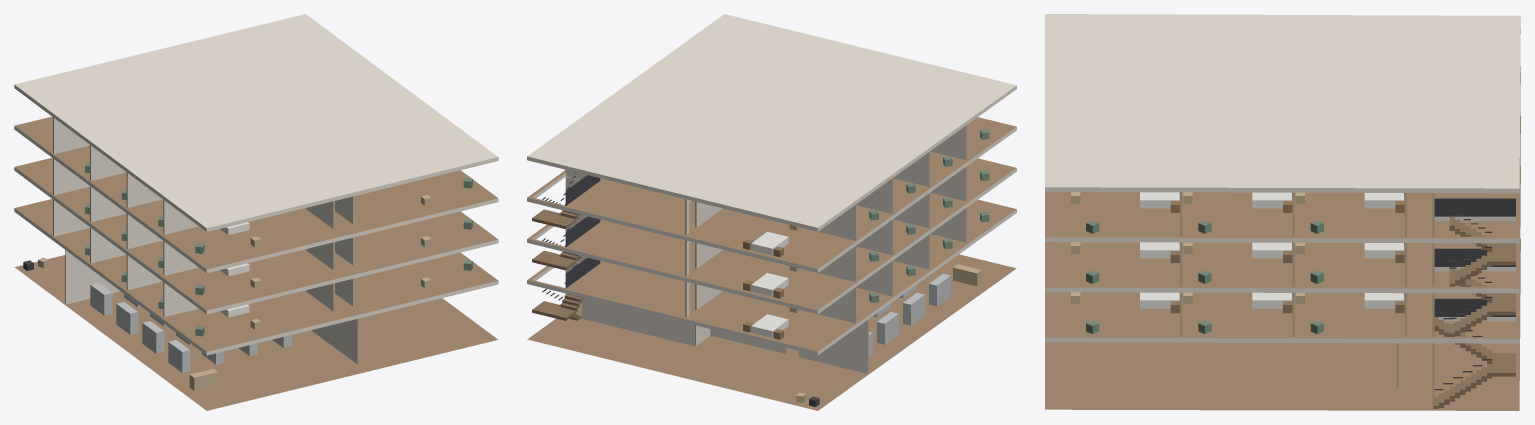
The model's file is interior.glb.
The picture shows the model from 3 angles, left to right: view 1: azimuth 30°, elevation 25°; view 2: azimuth 150°, elevation 25°; view 3: azimuth 270°, elevation 25°; orthographic projection. The views are drawn at different scales.
Parts seen in each view (by area): view 1: slabs, partitions, coarse-s0, coarse-s1, coarse-s2, coarse-s3; view 2: slabs, partitions, stair, coarse-s0, coarse-s3, coarse-s2, coarse-s1; view 3: slabs, stair, coarse-s1, coarse-s3, coarse-s2, partitions.
Boxes of the visible parts, x1,y1,x2,y2 form: slabs: [14, 14, 498, 410]; partitions: [53, 117, 359, 364]; coarse-s0: [23, 257, 291, 390]; coarse-s1: [85, 245, 472, 336]; coarse-s2: [85, 204, 472, 295]; coarse-s3: [85, 163, 472, 253]; slabs: [527, 14, 1016, 410]; partitions: [565, 125, 967, 373]; stair: [532, 172, 600, 320]; coarse-s0: [796, 264, 981, 406]; coarse-s3: [743, 129, 989, 257]; coarse-s2: [743, 170, 989, 298]; coarse-s1: [743, 211, 989, 339]; slabs: [1045, 14, 1520, 410]; stair: [1433, 198, 1515, 408]; coarse-s1: [1071, 292, 1404, 333]; coarse-s3: [1071, 192, 1404, 233]; coarse-s2: [1071, 242, 1404, 283]; partitions: [1180, 192, 1434, 408].
Bounding box in the file's own units: 20.89 × 12.43 × 24.07.
